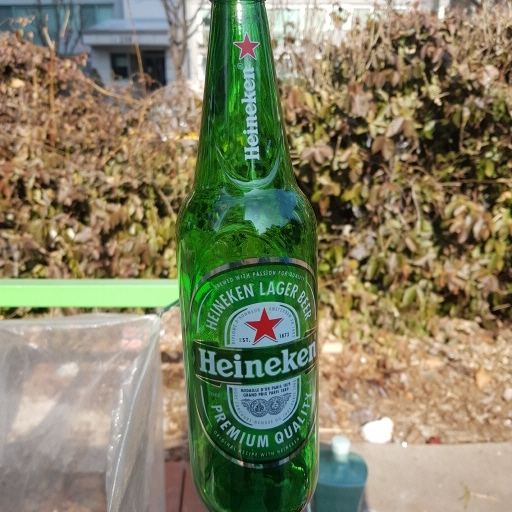Glass_1: (172, 1, 320, 512)
